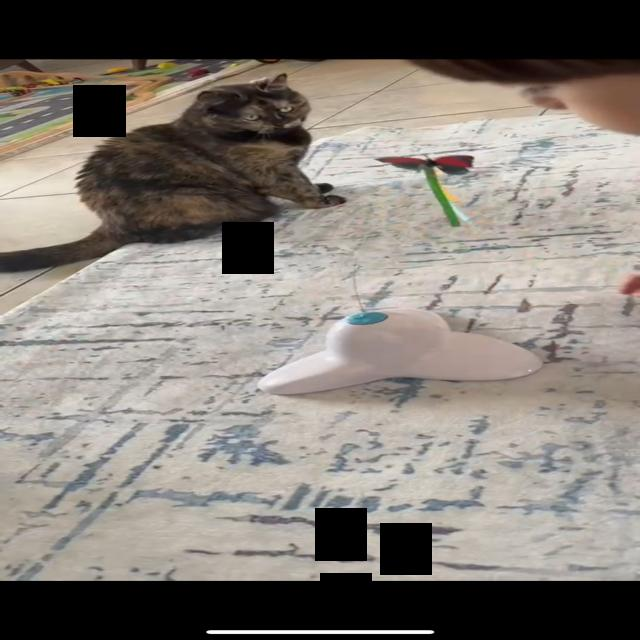authorized: (1, 72, 346, 273)
